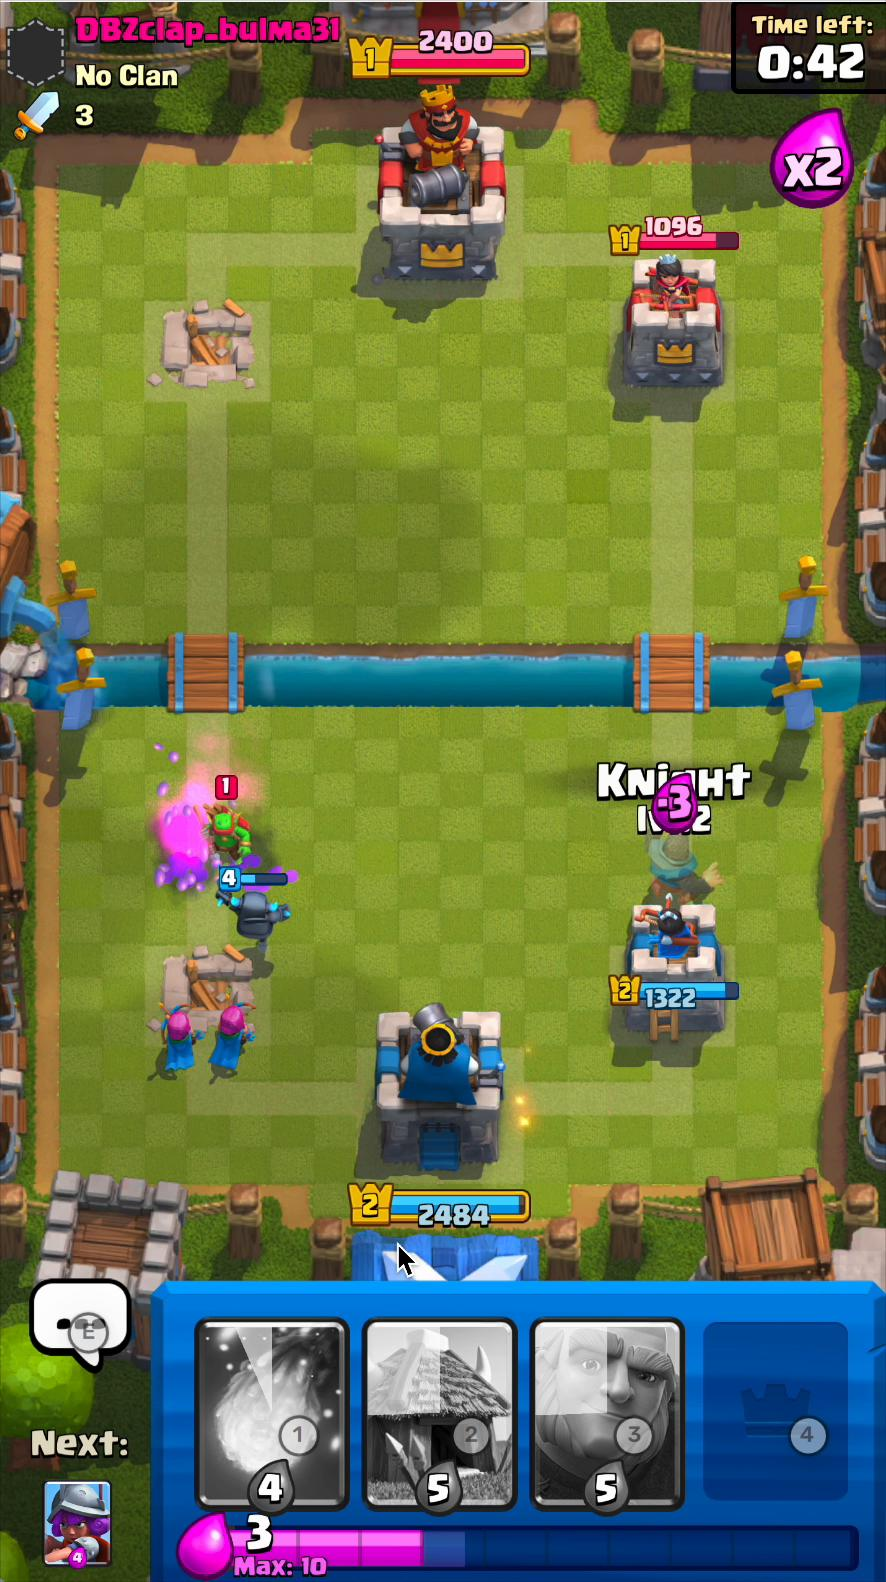archere: (155, 990, 201, 1072), (209, 995, 250, 1077)
gobelin_lances: (198, 809, 258, 863)
mini_PEKKA: (211, 887, 283, 947)
